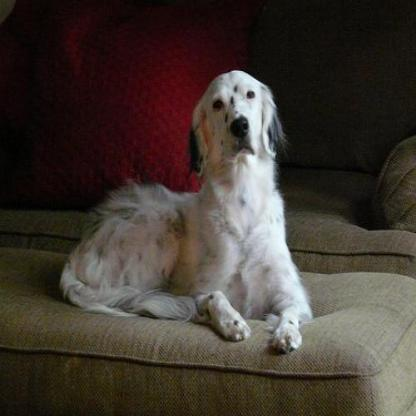English_setter: (56, 63, 313, 351)
